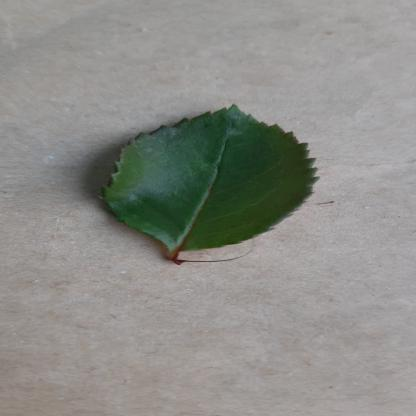normal: (82, 104, 338, 256)
